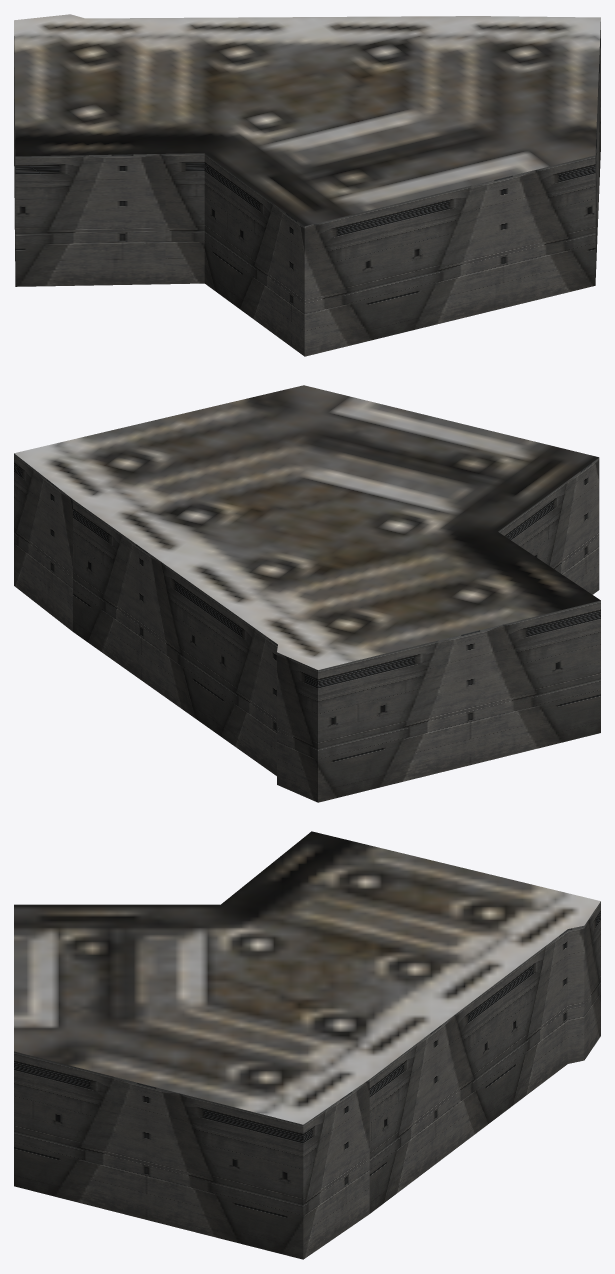
The model's file is fortress_heavy_44.glb.
The picture shows the model from 3 angles, top to bottom: view 1: azimuth 30°, elevation 25°; view 2: azimuth 150°, elevation 25°; view 3: azimuth 270°, elevation 25°; orthographic projection. The views are drawn at different scales.
Visible parts, largest first — view 1: buildings/saxarba/fortress_heavy/fortress_heavy_44; view 2: buildings/saxarba/fortress_heavy/fortress_heavy_44; view 3: buildings/saxarba/fortress_heavy/fortress_heavy_44.
Boxes of the visible parts, <box> form: buildings/saxarba/fortress_heavy/fortress_heavy_44: <box>14,14,600,356</box>; buildings/saxarba/fortress_heavy/fortress_heavy_44: <box>14,385,600,802</box>; buildings/saxarba/fortress_heavy/fortress_heavy_44: <box>14,831,600,1259</box>.
Size of the model in its own units: 84 by 18 by 71.
